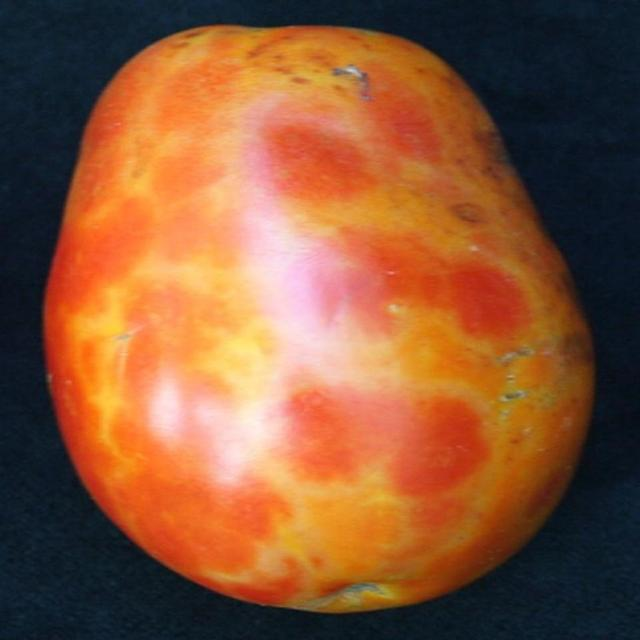Spotted wilt Virus Fruit: (27, 13, 398, 411)
